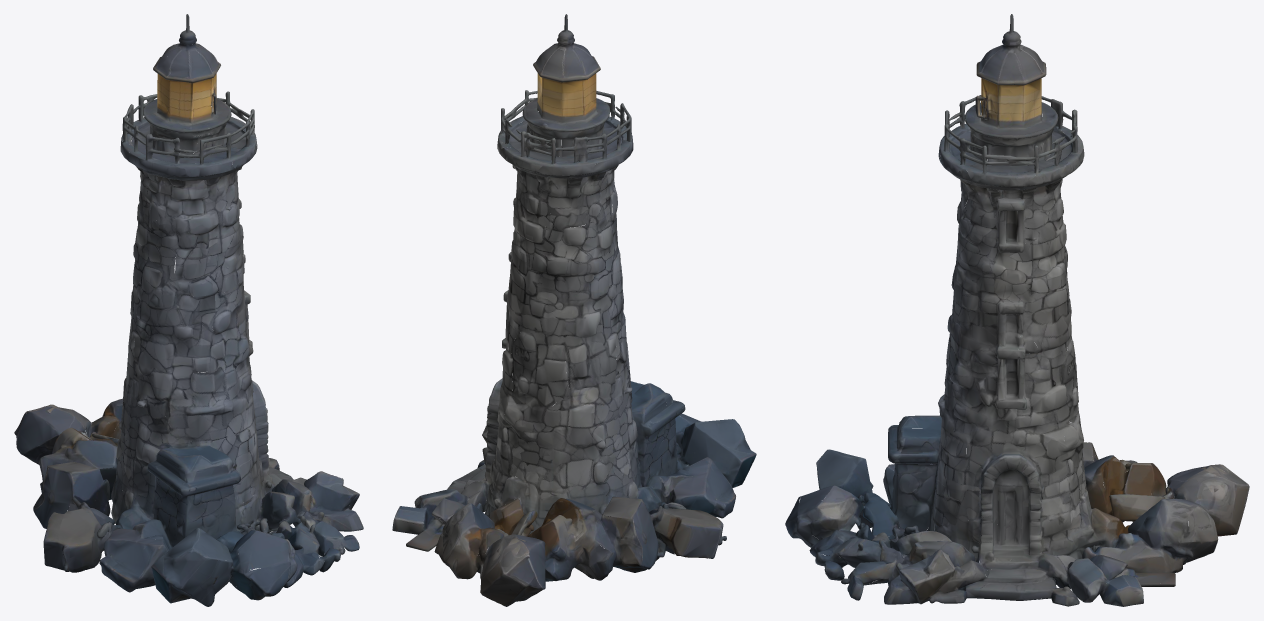
The model's file is lighthouse.glb.
3 renders of one model, left to right at view 1: azimuth 30°, elevation 25°; view 2: azimuth 150°, elevation 25°; view 3: azimuth 270°, elevation 25°, orthographic. The views are drawn at different scales.
Parts seen in each view (by area): view 1: tripo_node_864217ea-38ca-432b-822e-ada2e91c107e; view 2: tripo_node_864217ea-38ca-432b-822e-ada2e91c107e; view 3: tripo_node_864217ea-38ca-432b-822e-ada2e91c107e.
Part boxes in pixels (x1,y1,x2,y2): tripo_node_864217ea-38ca-432b-822e-ada2e91c107e: (14,14,363,606); tripo_node_864217ea-38ca-432b-822e-ada2e91c107e: (392,14,756,606); tripo_node_864217ea-38ca-432b-822e-ada2e91c107e: (785,14,1249,606).
Bounding box in the file's own units: 12.27 × 22 × 16.83.
1 material, 1 textured.
